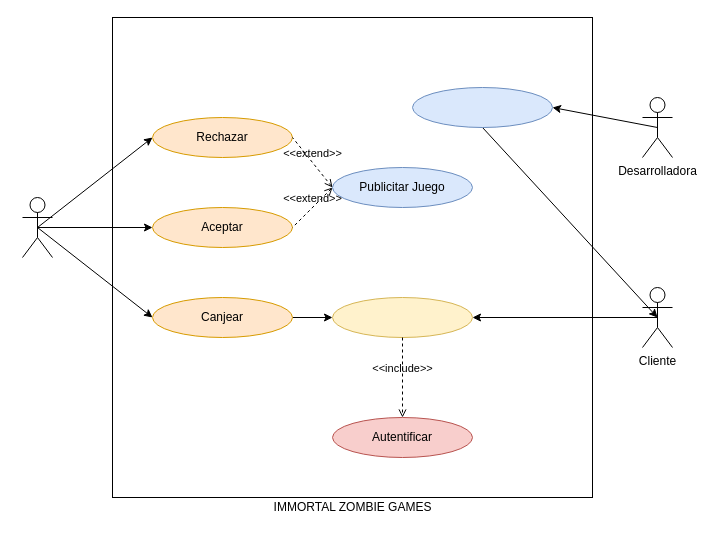
Image size: 714x535. Some labels were removed from this diagram. Here are the shapes that lost their labels. From the top down, the box of each, then its label:
(412, 86, 552, 128): Ofrecer Juego
(22, 196, 52, 258): Usuario
(332, 296, 472, 338): Tienda
